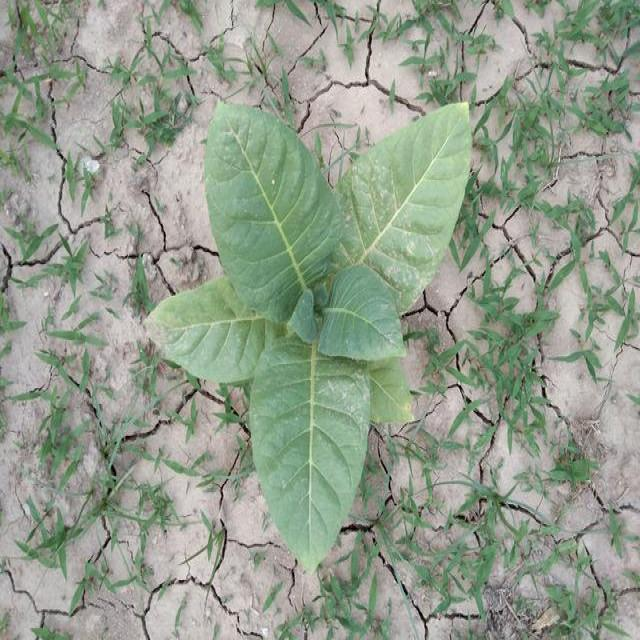crop: (160, 91, 470, 530)
